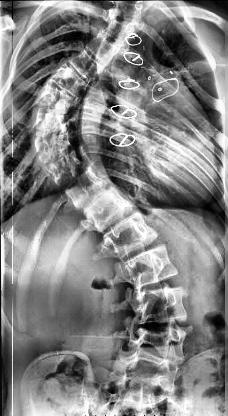Vertebrae: (97, 216, 168, 256), (118, 246, 183, 286), (126, 286, 190, 326), (117, 348, 179, 382), (84, 190, 138, 226), (129, 327, 185, 359), (61, 171, 113, 205), (35, 154, 92, 184), (44, 62, 90, 96), (31, 84, 76, 116), (65, 51, 110, 80), (28, 134, 78, 158), (26, 112, 72, 138), (84, 36, 123, 62), (109, 0, 144, 22), (100, 19, 136, 40)
